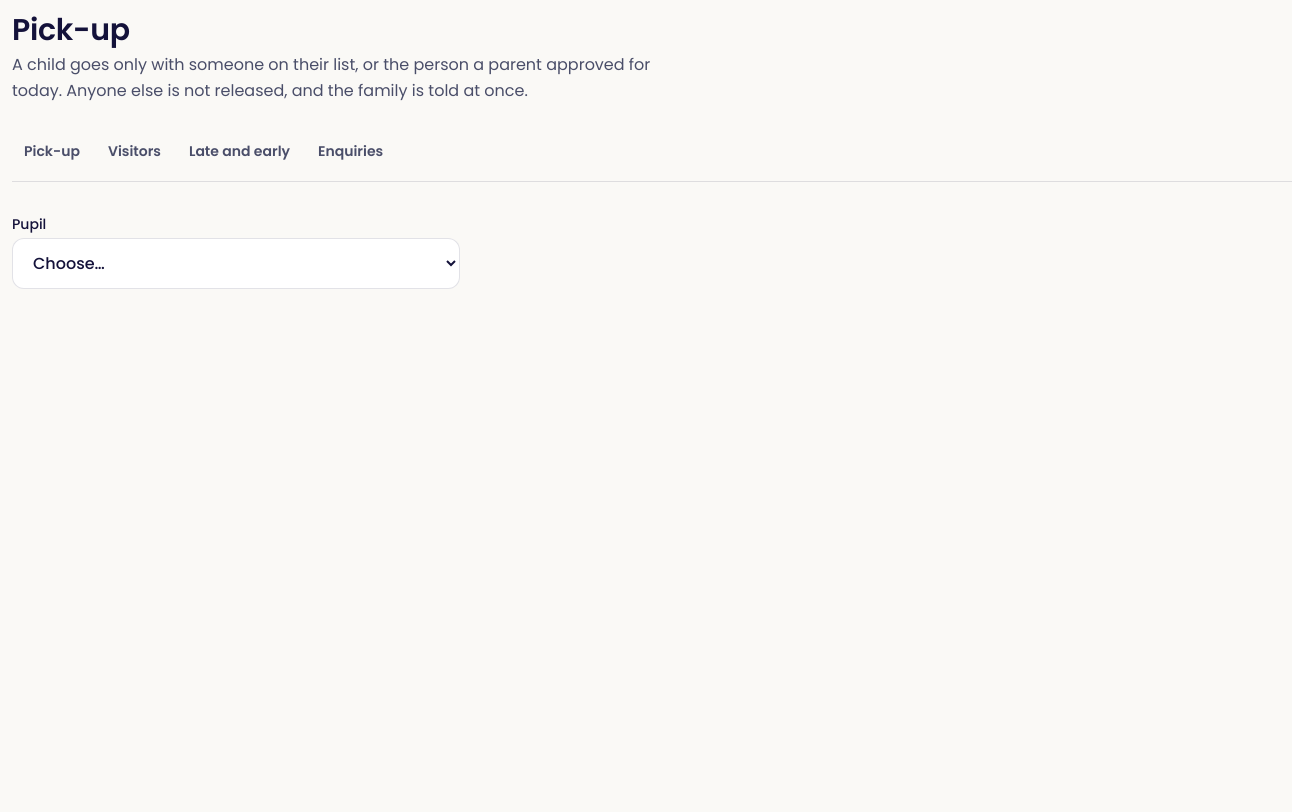
GateScreen › releases a child to a listed person
The width and height of the screenshot is (1292, 812).
Select "Kojo Asante (Basic 2)" in the dropdown labelled "Pupil" at (236, 263), box [12,238,460,289]
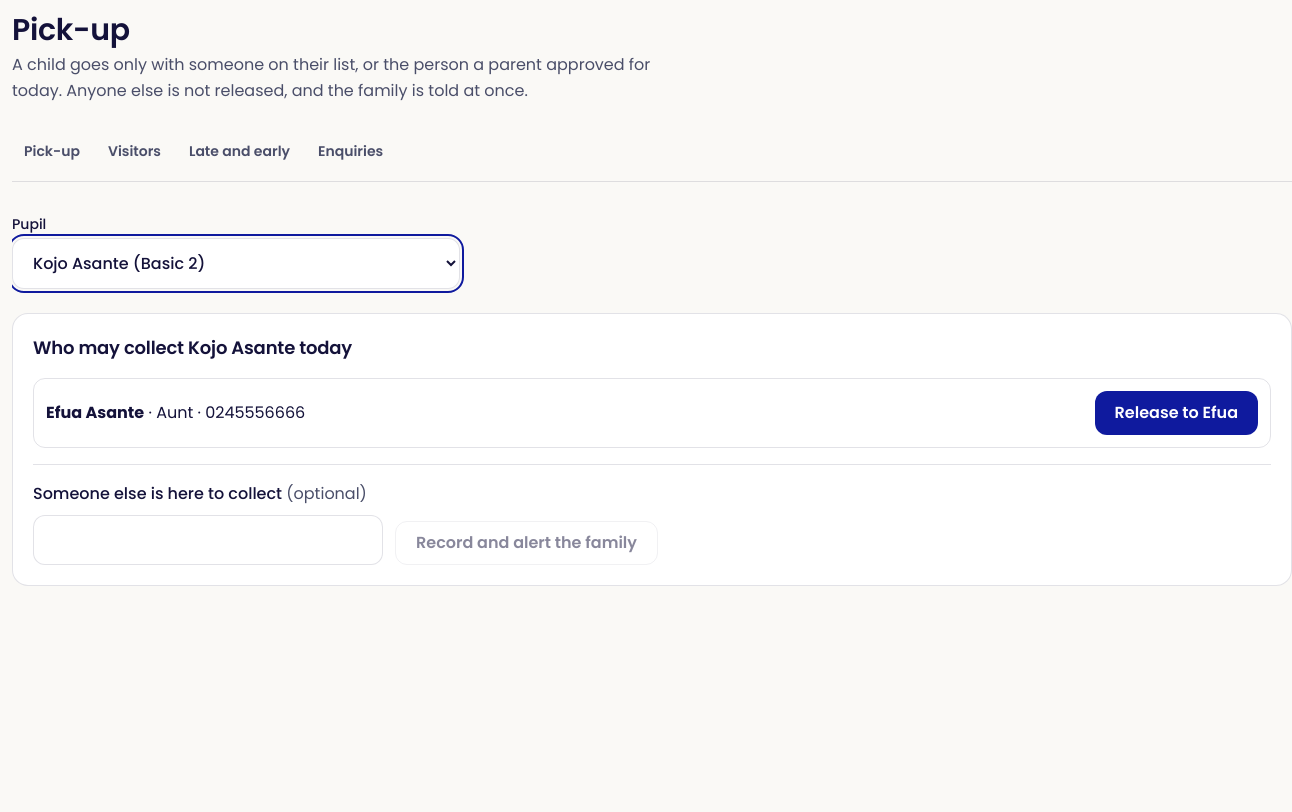
Click the button "Release to Efua".
click(1176, 413)  # box [1095,391,1258,435]
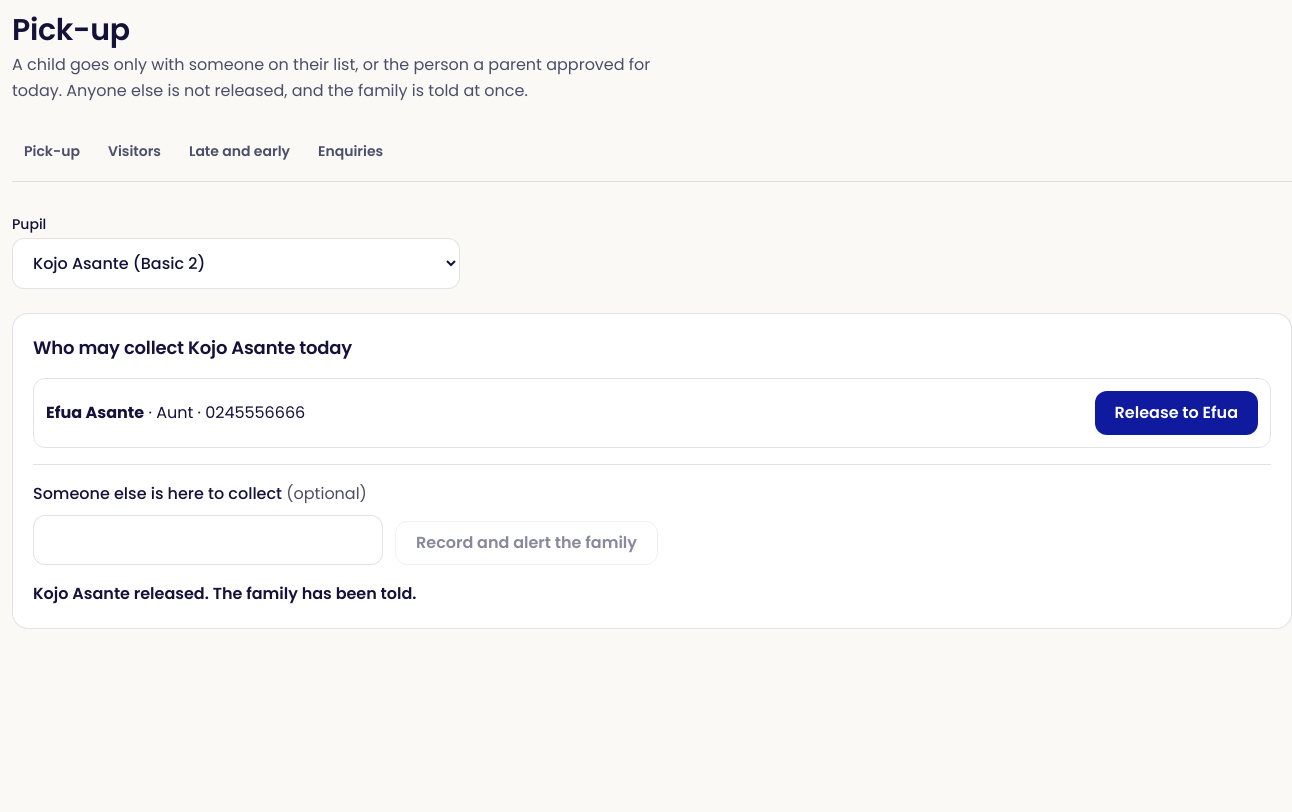
Now the text "Kojo Asante released. The family has been told." is shown, box [33,582,416,605]
